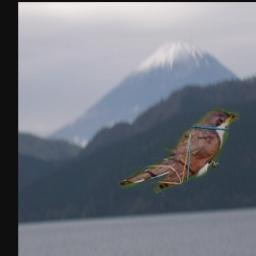Cuckoo: (117, 106, 239, 199)
